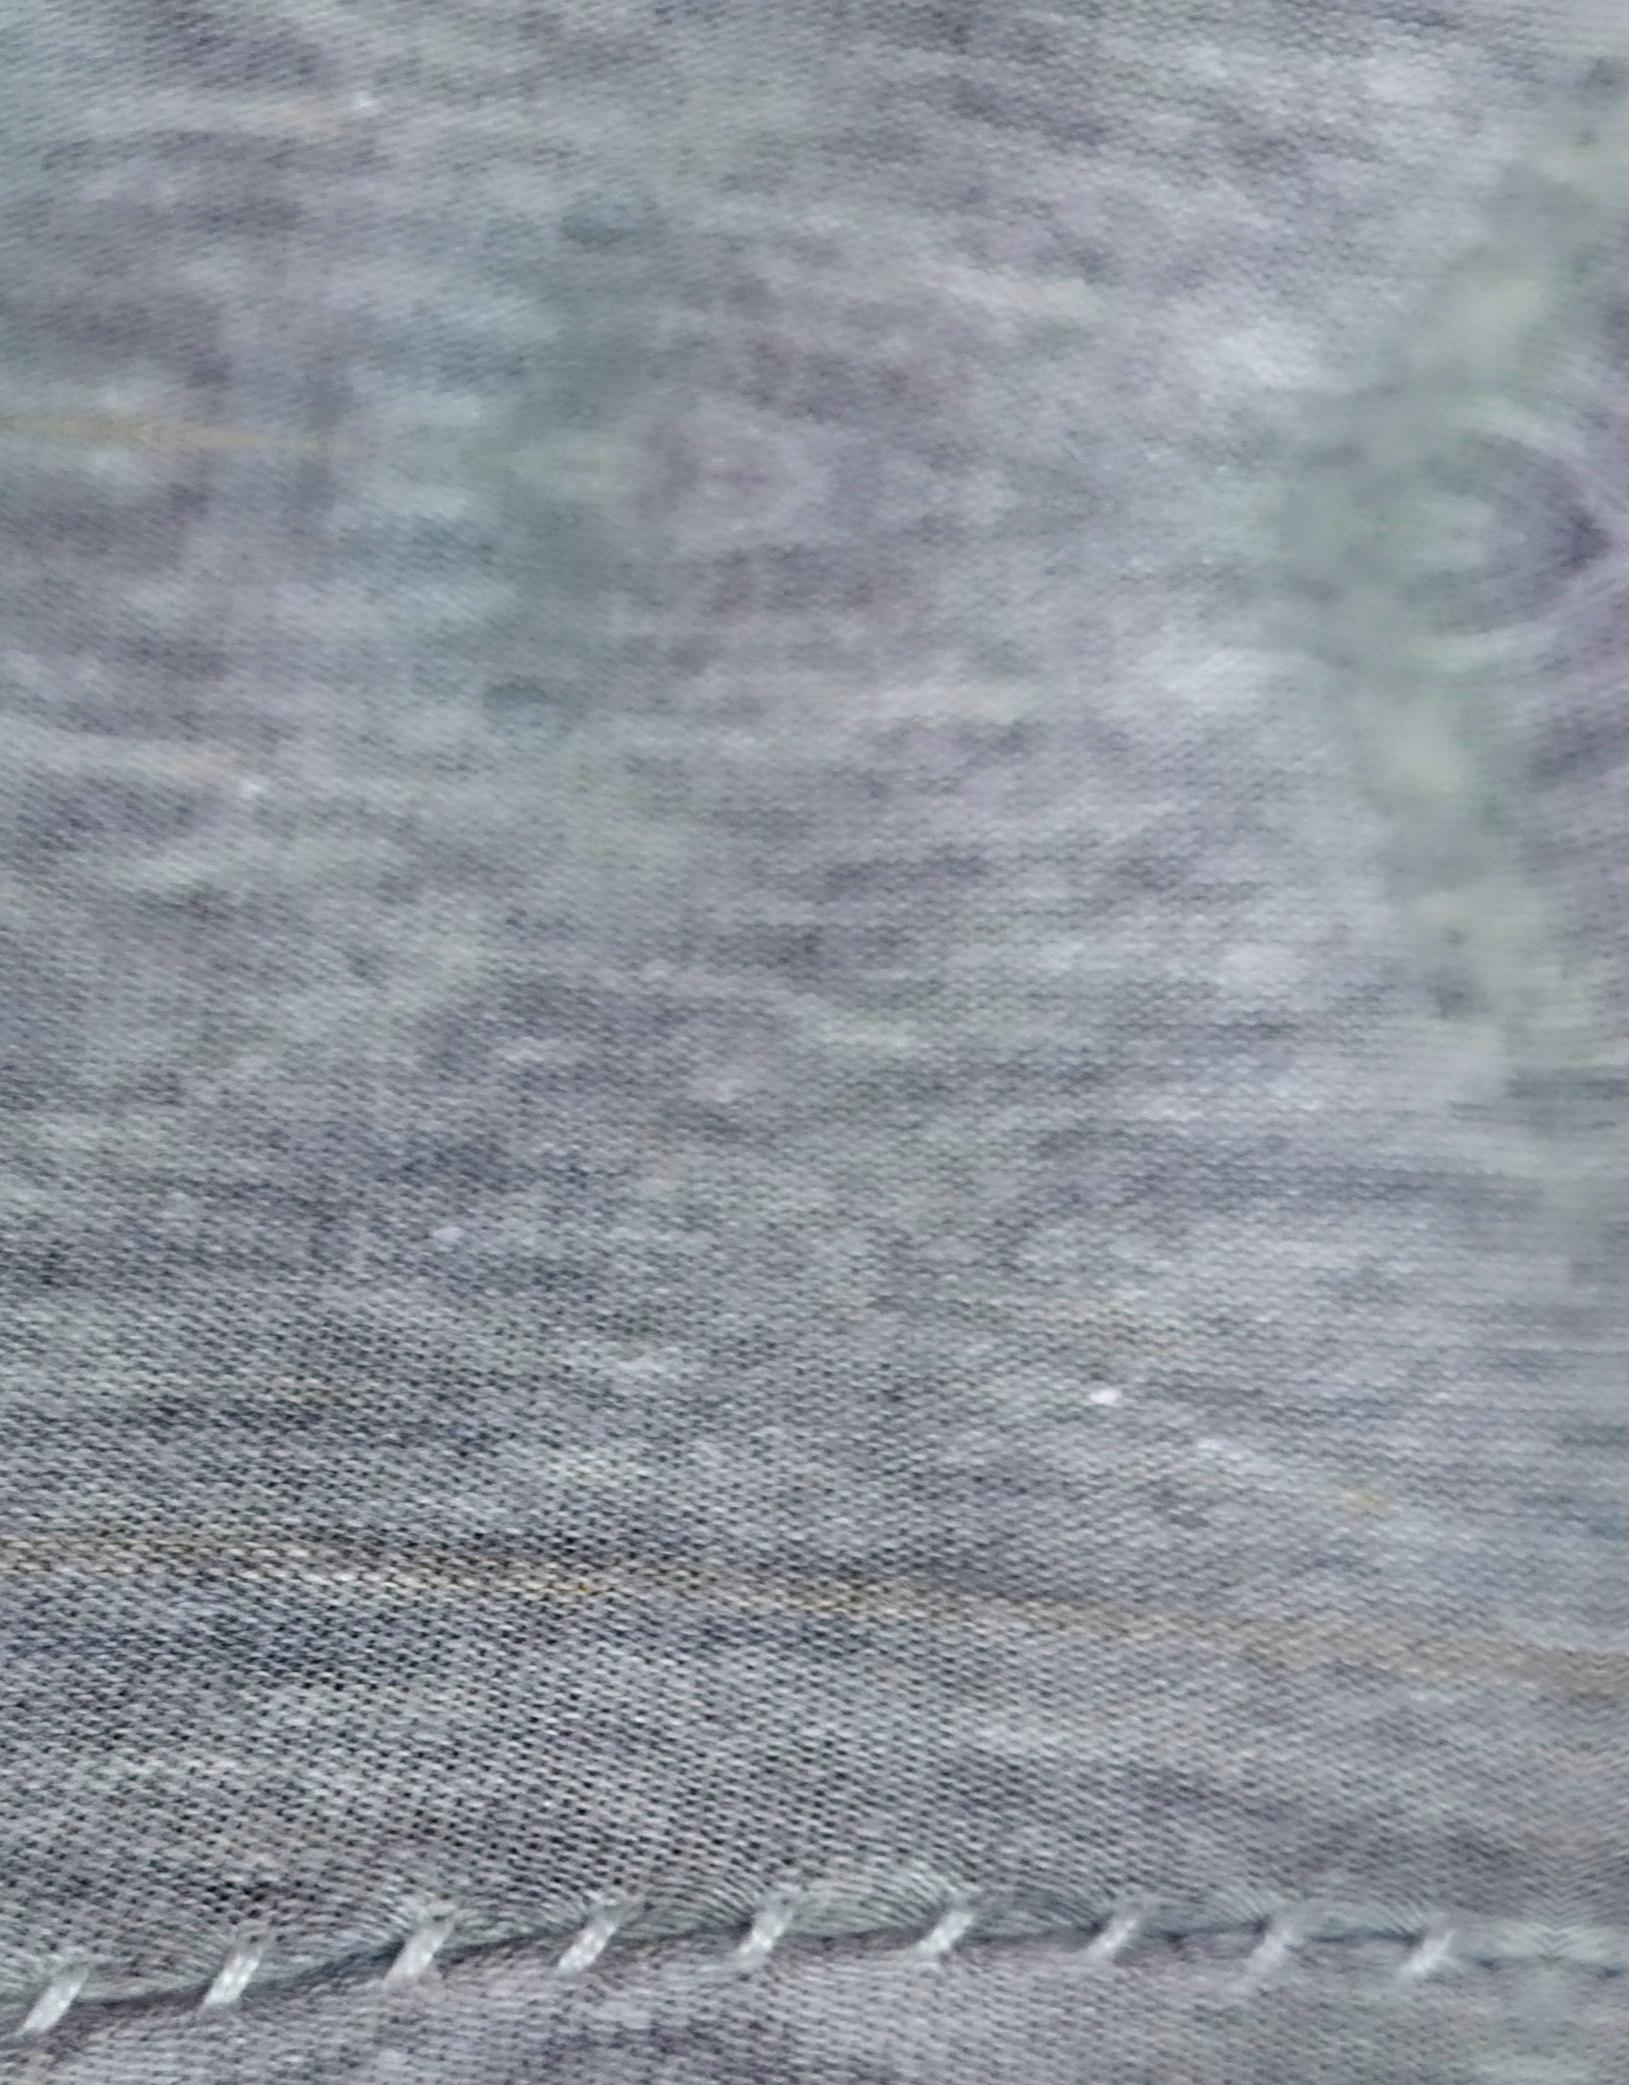slub: (3, 1845, 1629, 2068)
